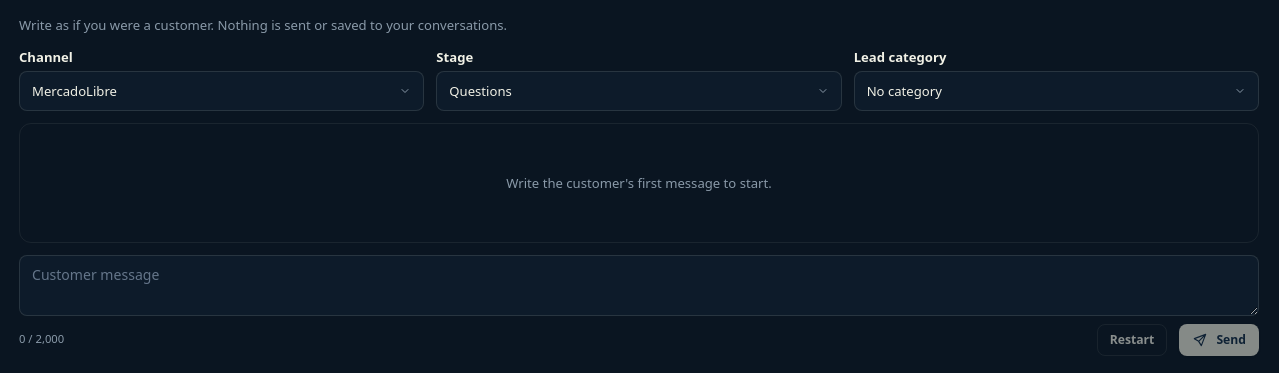
Test case: Playground › runs the trial in English
The width and height of the screenshot is (1279, 373).
In the text box with placeholder "Customer message": [639, 286] box 19,255 -> 1259,316, type "Do you have stock?"
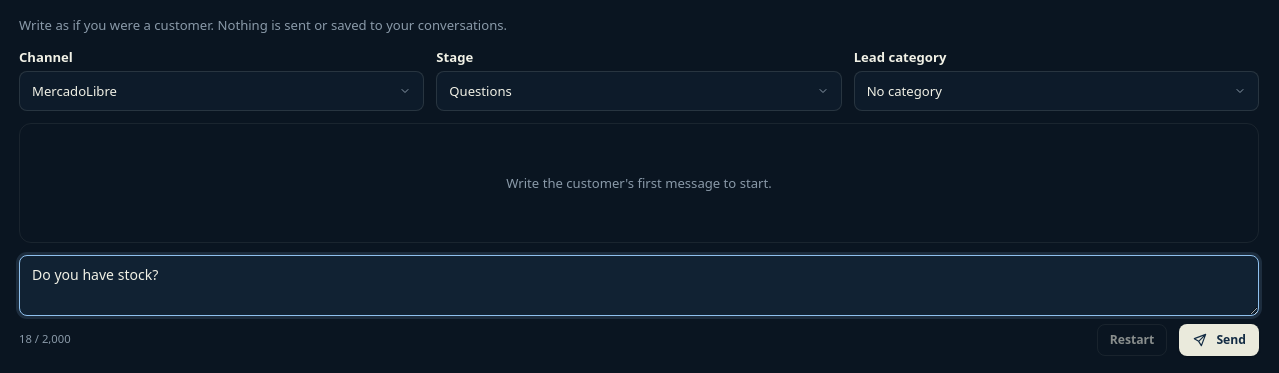
Click the button "Send": [1219, 340] box 1179,324 -> 1259,356
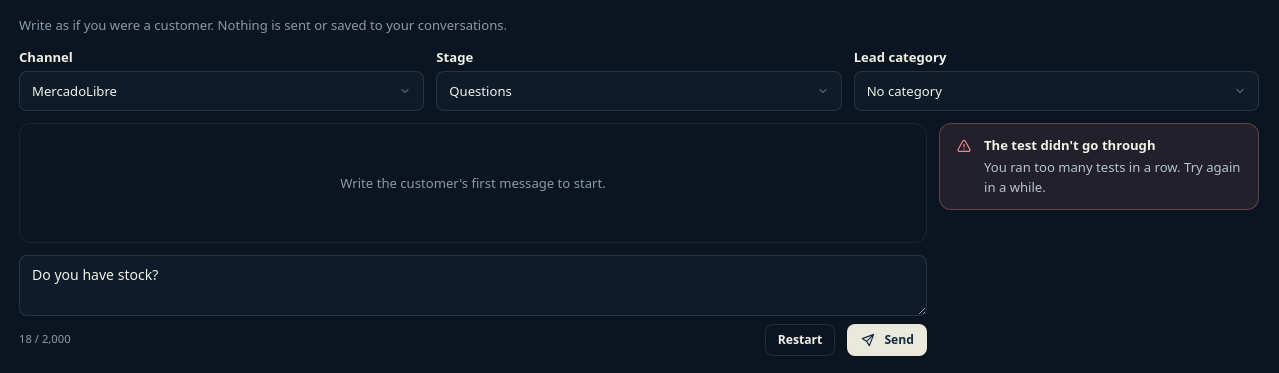
Expected: the text "You ran too many tests in a row. Try again in a while." is shown, 984,158 -> 1242,198
Expected: the text "The test didn't go through" is shown, 984,136 -> 1156,154
Expected: the button "Restart" is enabled, 765,324 -> 835,356
